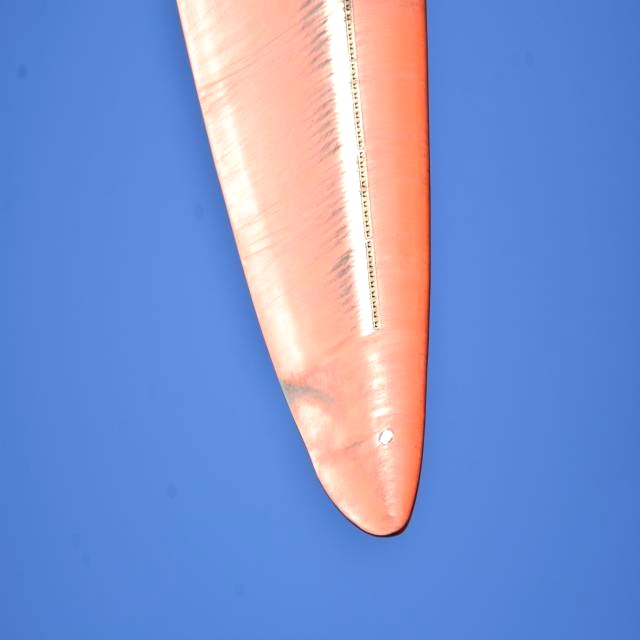Coating_defects: (276, 375, 340, 407)
